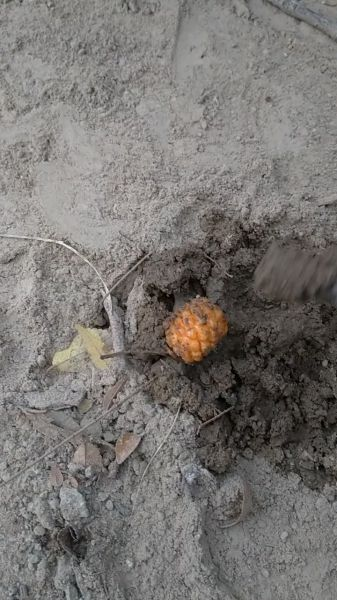eggs: (160, 296, 232, 363)
